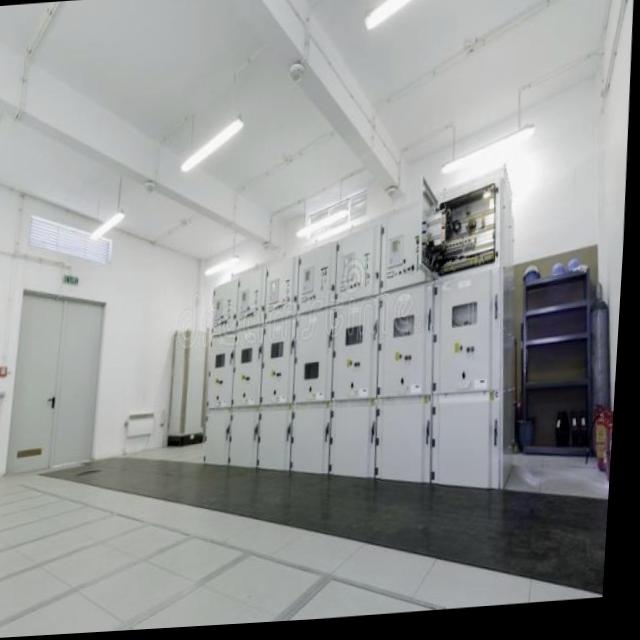FireExtinguisher: (591, 406, 618, 480), (606, 417, 619, 495)
